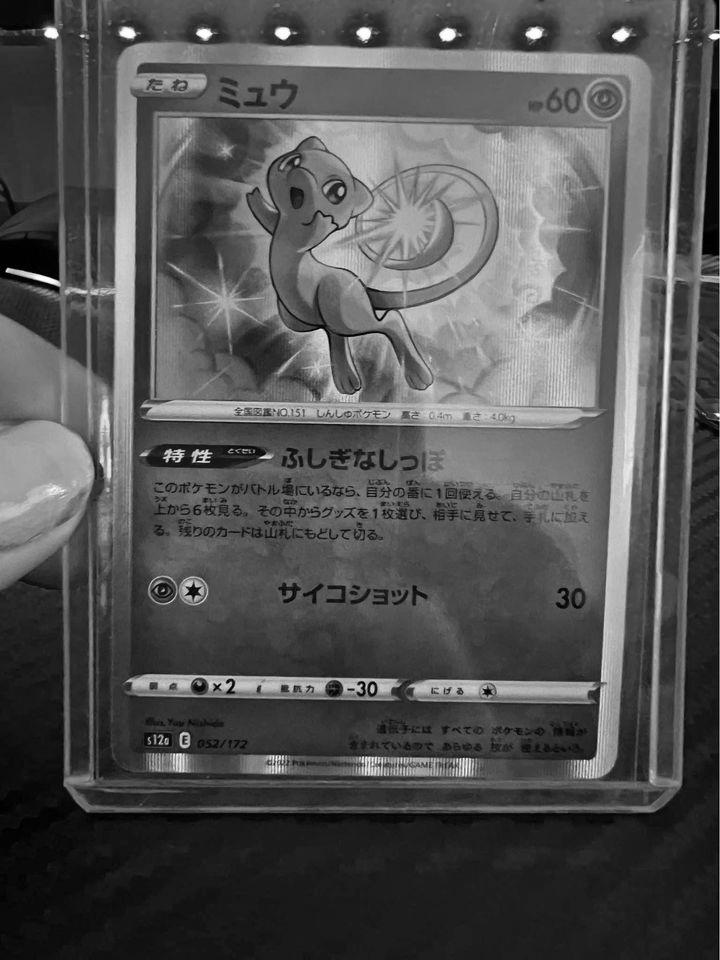card: (108, 38, 658, 785)
